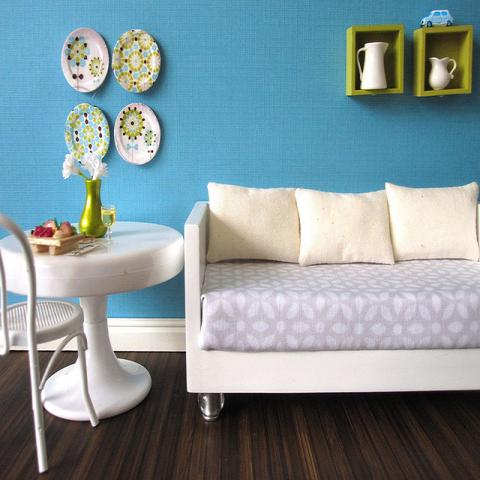car: (420, 10, 453, 29)
